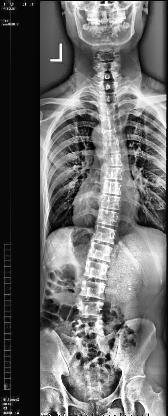Vertebrae: (82, 260, 110, 280), (79, 280, 107, 300), (91, 226, 117, 244), (87, 244, 112, 262), (76, 302, 104, 318), (77, 319, 105, 333), (97, 210, 119, 226), (98, 115, 120, 129), (100, 141, 122, 155), (103, 167, 124, 181), (102, 181, 122, 195), (100, 196, 120, 209), (99, 102, 117, 116), (103, 155, 124, 167), (100, 129, 120, 141), (98, 81, 118, 91), (98, 92, 118, 102)
